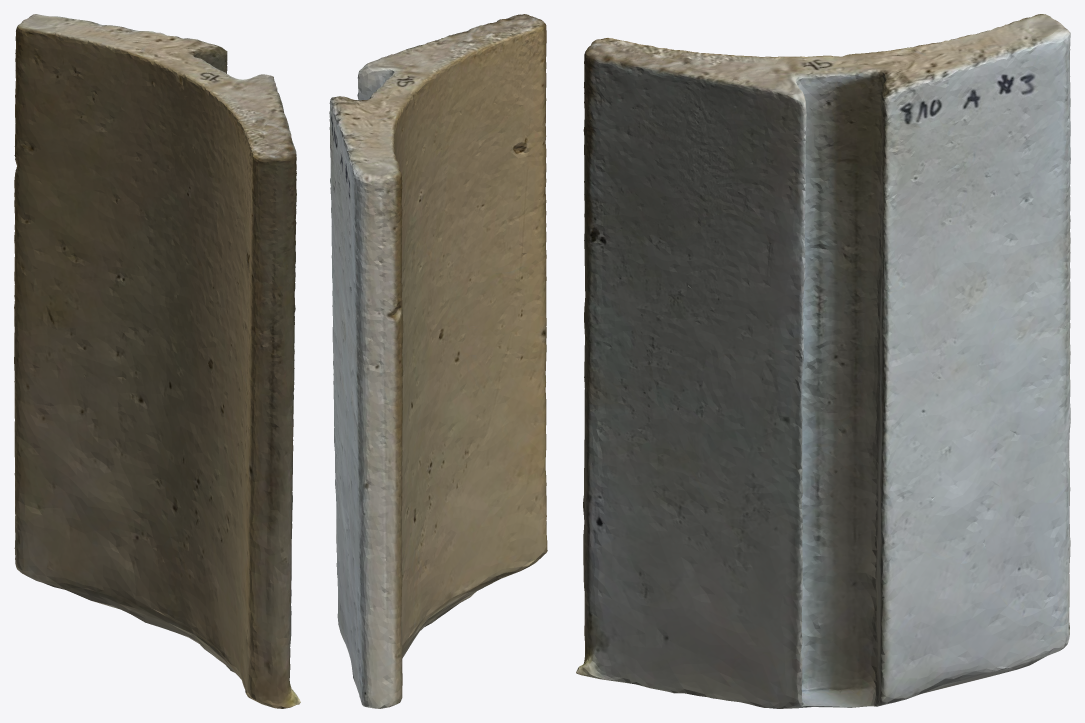
The model's file is Pixel 45.glb.
3 renders of one model, left to right at view 1: azimuth 30°, elevation 25°; view 2: azimuth 150°, elevation 25°; view 3: azimuth 270°, elevation 25°, orthographic. The views are drawn at different scales.
Bounding box in the file's own units: 0.0754 × 0.271 × 0.1896.
Materials: 1 (1 with a texture image).
